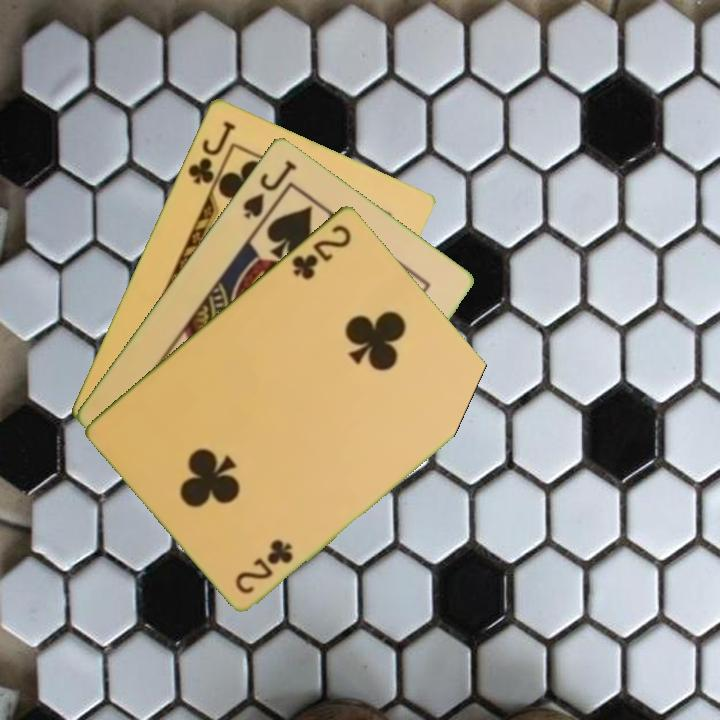2c: (288, 220, 354, 283), (231, 536, 297, 596)
Jc: (184, 116, 238, 187)
Js: (239, 155, 300, 222)
